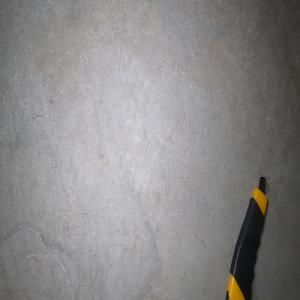Cutter: (225, 175, 268, 300)
